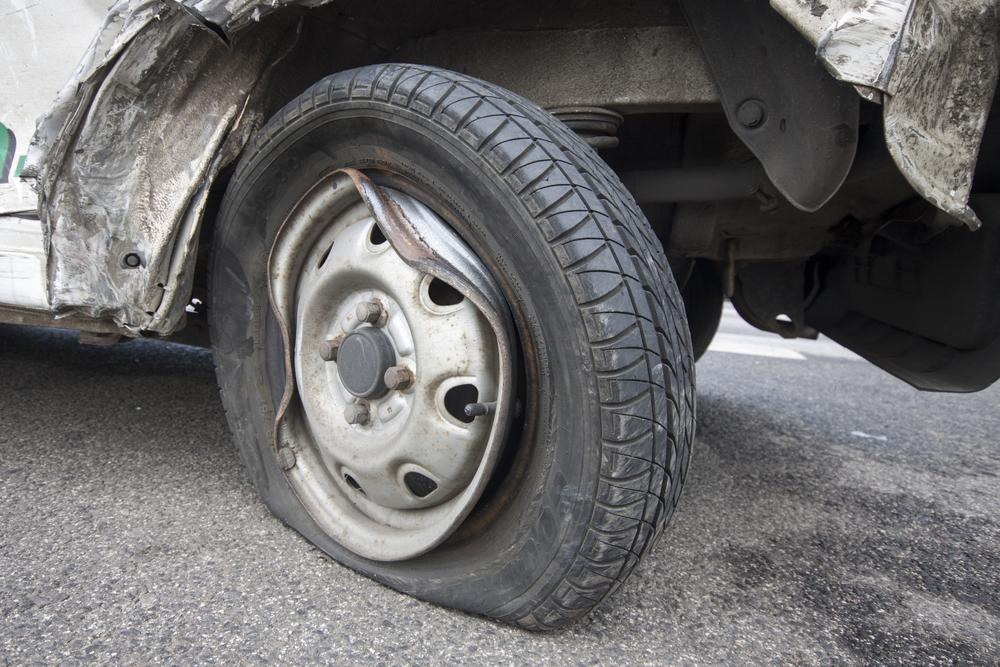dent: (26, 0, 244, 325)
tire flat: (205, 63, 697, 630)
